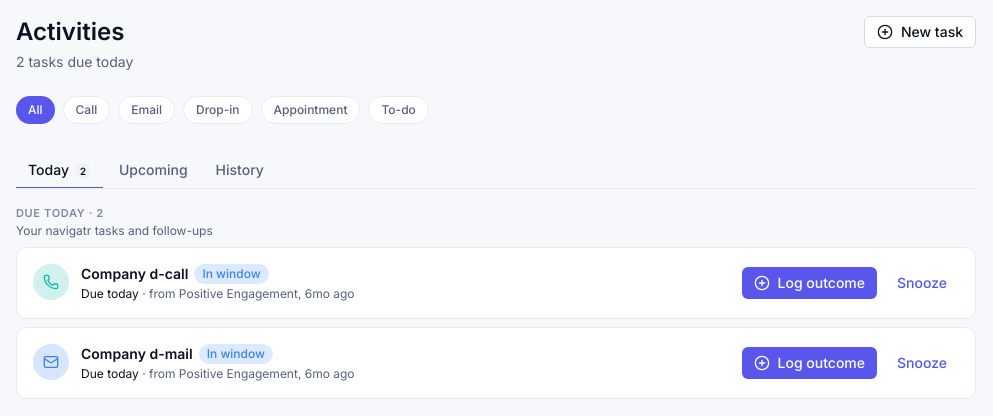
Scenario: ActivitiesPage / shared type filter (above tabs) › narrows the Today list by type and updates the Today tab count
Check: the text "Company d-call" is shown, box left=81, top=264, right=188, bottom=284
Check: the text "Company d-mail" is shown, box left=81, top=344, right=193, bottom=364
Click the button "Email" at {"x": 147, "y": 110}, box left=118, top=96, right=175, bottom=124
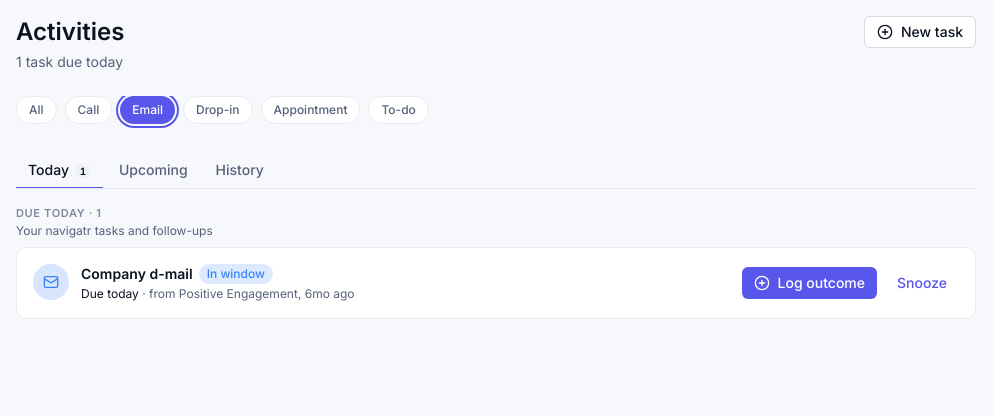
Check: the text "Company d-mail" is shown, box left=81, top=264, right=193, bottom=284
Check: the text "Company d-call" is gone
Check: the tab "Today 1" is shown, box left=16, top=152, right=103, bottom=188
